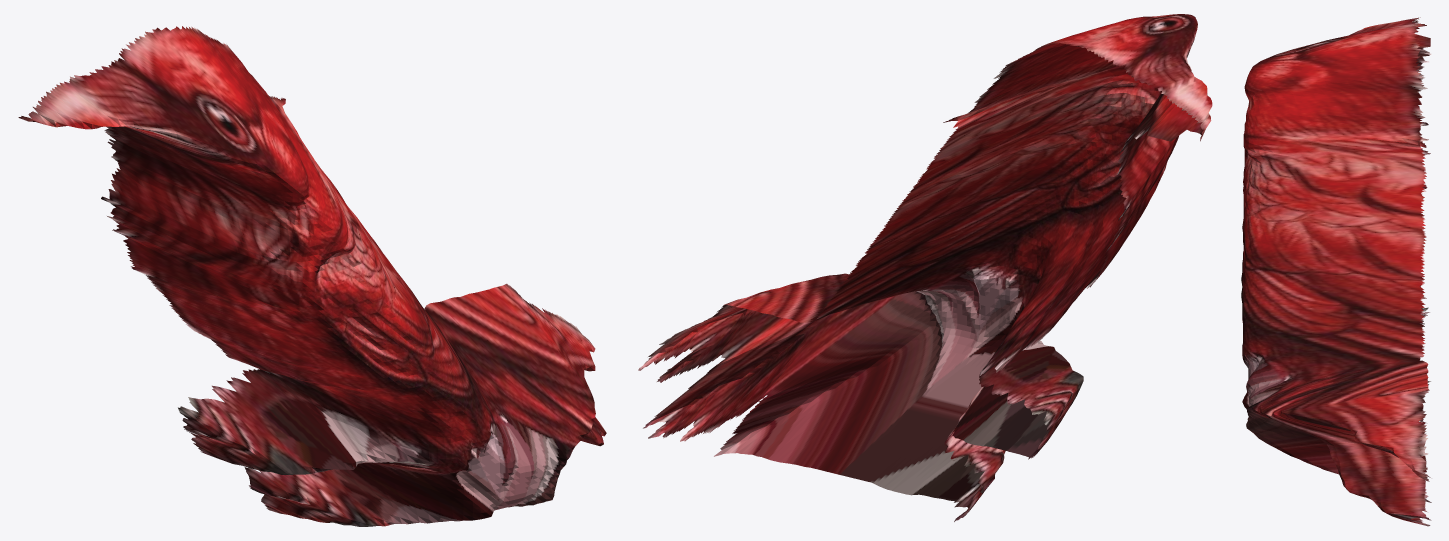
File: comp_torso.obj
3 renders of one model, left to right at view 1: azimuth 30°, elevation 25°; view 2: azimuth 150°, elevation 25°; view 3: azimuth 270°, elevation 25°, orthographic. The views are drawn at different scales.
Parts seen in each view (by area): view 1: comp_torso; view 2: comp_torso; view 3: comp_torso.
Boxes of the visible parts, bbox=[...] form: comp_torso: bbox=[18, 26, 606, 526]; comp_torso: bbox=[638, 14, 1212, 521]; comp_torso: bbox=[1241, 17, 1431, 526].
Bounding box in the file's own units: 1.6 × 1.36 × 0.6641.
1 material, 1 textured.
